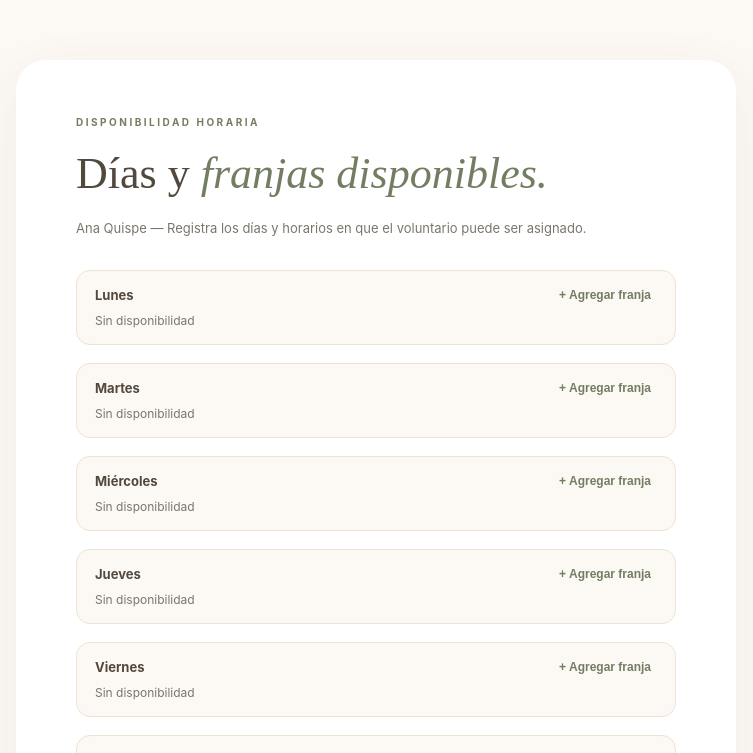
it: DisponibilidadView › agrega una franja y la guarda con el formato del backend (criterio 1)
Click the button with class "disp-agregar" in the row of "Lunes": click(605, 295) [553,287,657,303]
(page scrolled)
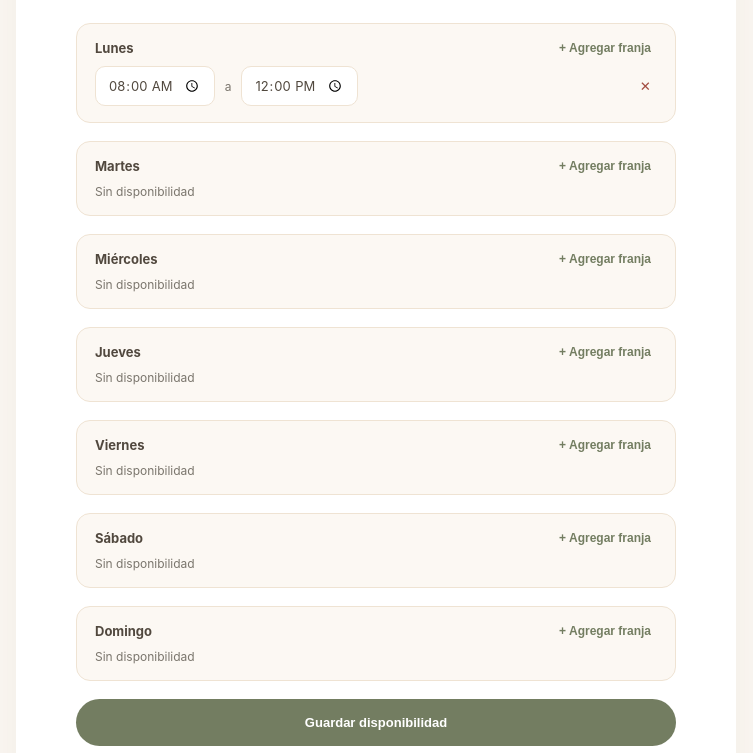
Submit the form
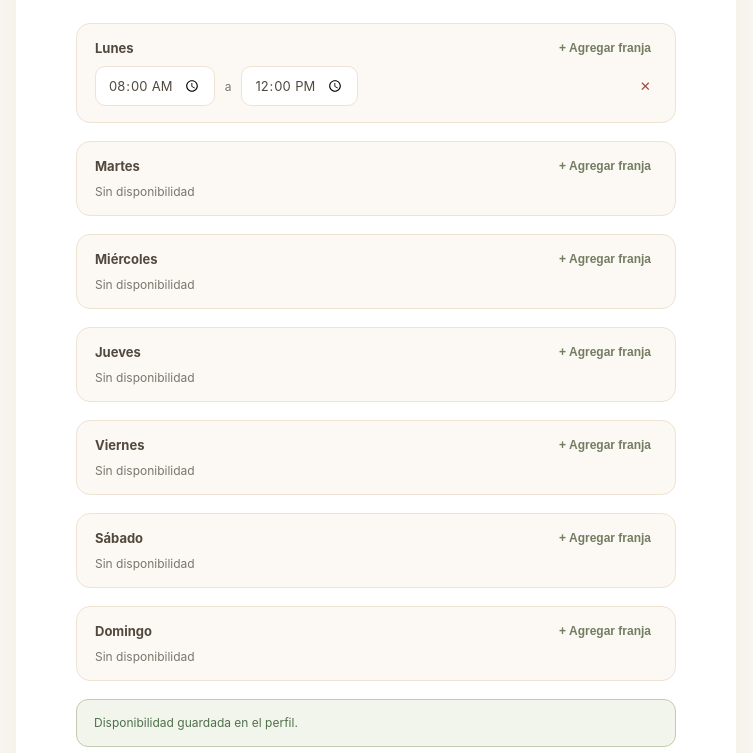
Result: the text "Disponibilidad guardada" is shown at [94,715,298,730]
